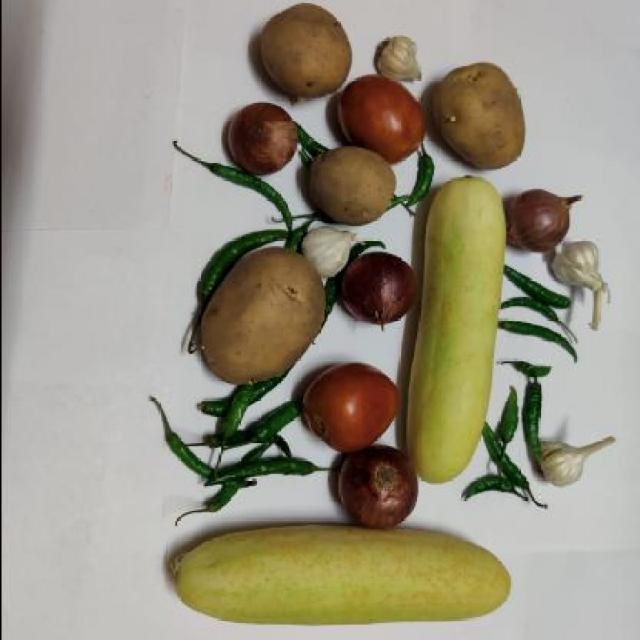Garlic: (552, 232, 611, 337), (534, 429, 626, 491), (295, 216, 360, 278), (374, 28, 426, 86)
Green Chili: (162, 428, 312, 498), (503, 263, 580, 362), (486, 382, 539, 509), (406, 150, 434, 204), (492, 358, 558, 380)
Onion: (328, 448, 420, 534), (336, 250, 422, 330), (224, 98, 298, 177), (504, 186, 586, 254)
Potato: (186, 253, 325, 389), (435, 52, 531, 174), (246, 0, 352, 98)
Tomato: (336, 73, 430, 158)
cucumber: (160, 524, 517, 632), (402, 177, 506, 494)
